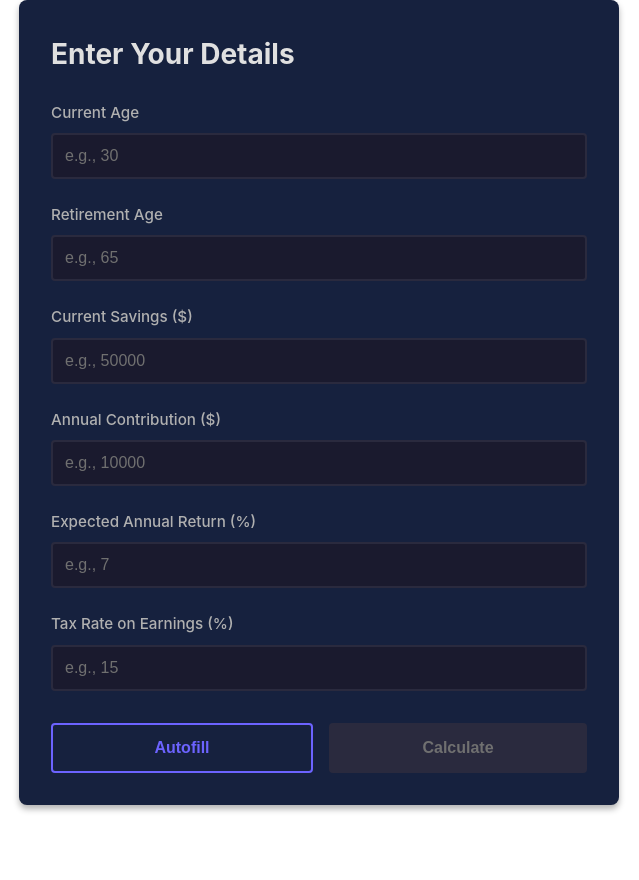
Scenario: InputForm › should show validation error when retirement age is less than current age
Type "65" into the number field labelled "Current Age" at (319,156), box [51,133,587,179]
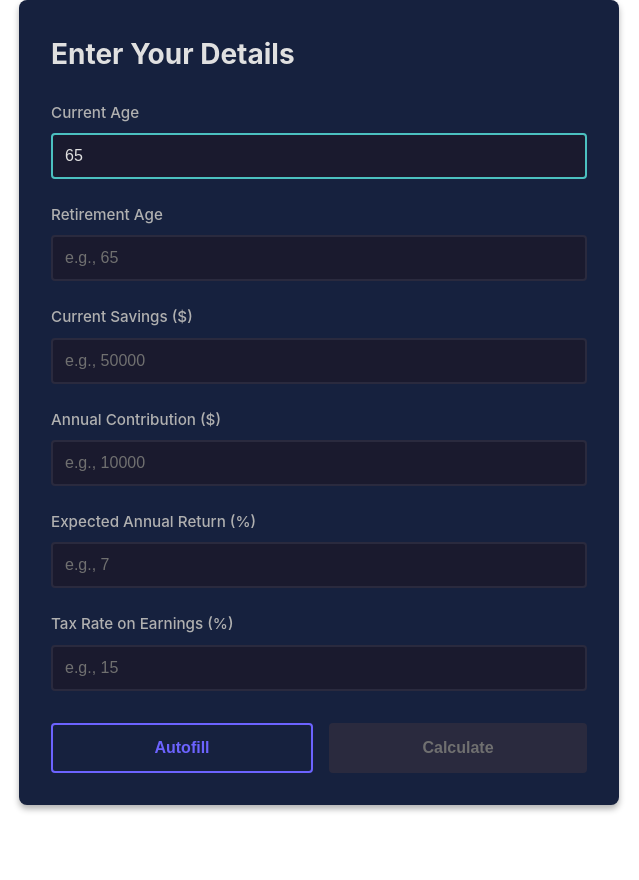
Type "30" into the number field labelled "Retirement Age" at (319,258), box [51,235,587,281]
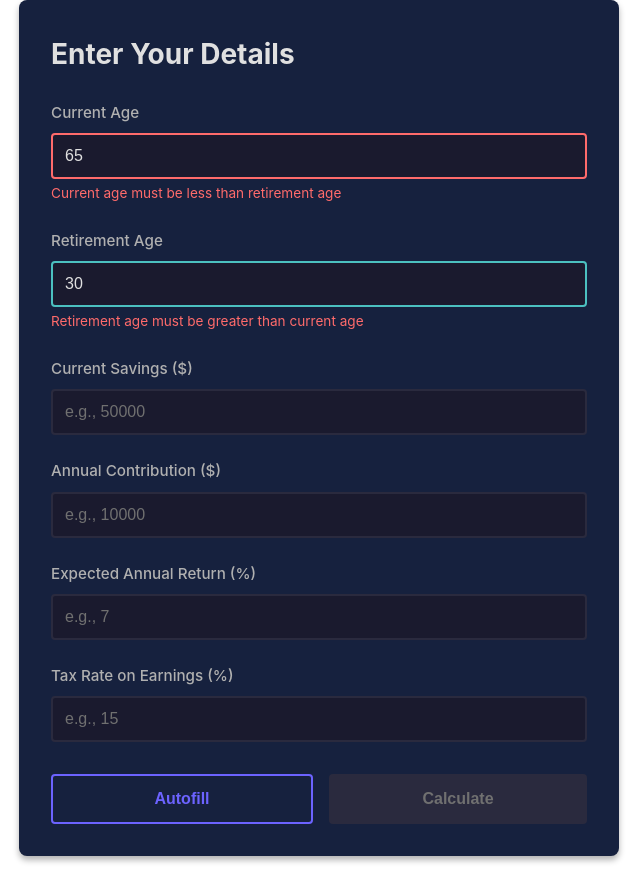
Expected: the text "Retirement age must be greater than current age" is shown, [51,313,364,329]
